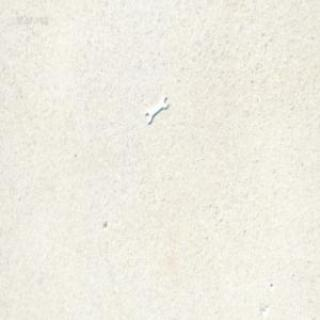Wrenchtrack_idkeyframe: (143, 94, 168, 124)
